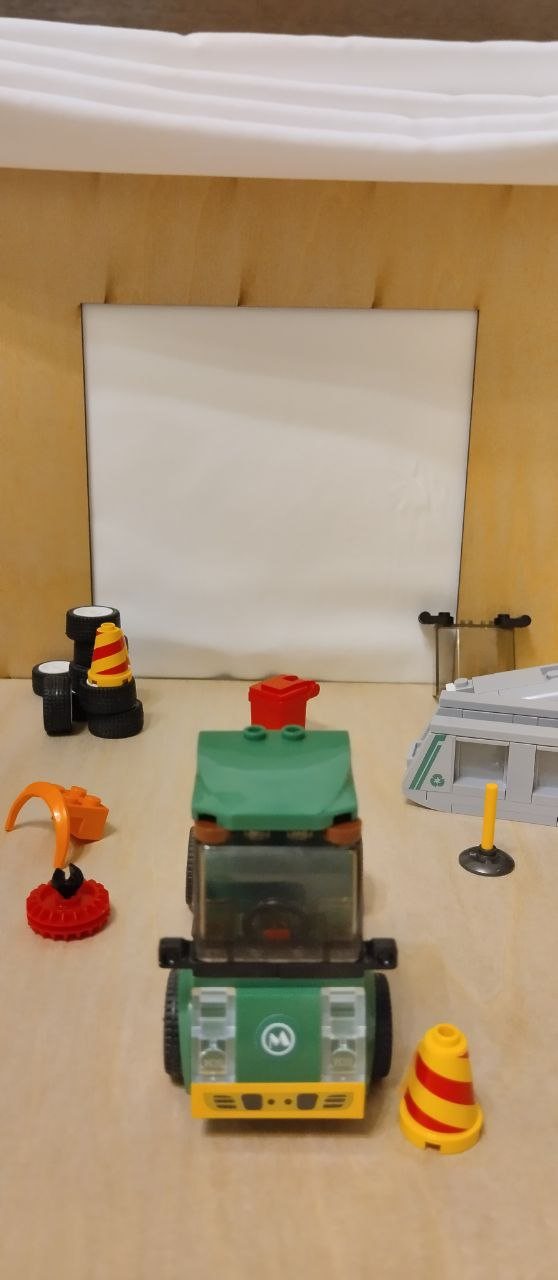Cone: (393, 1022, 498, 1166), (84, 622, 142, 694)
Object Red: (242, 675, 322, 736)
Truck: (164, 724, 405, 1140)
